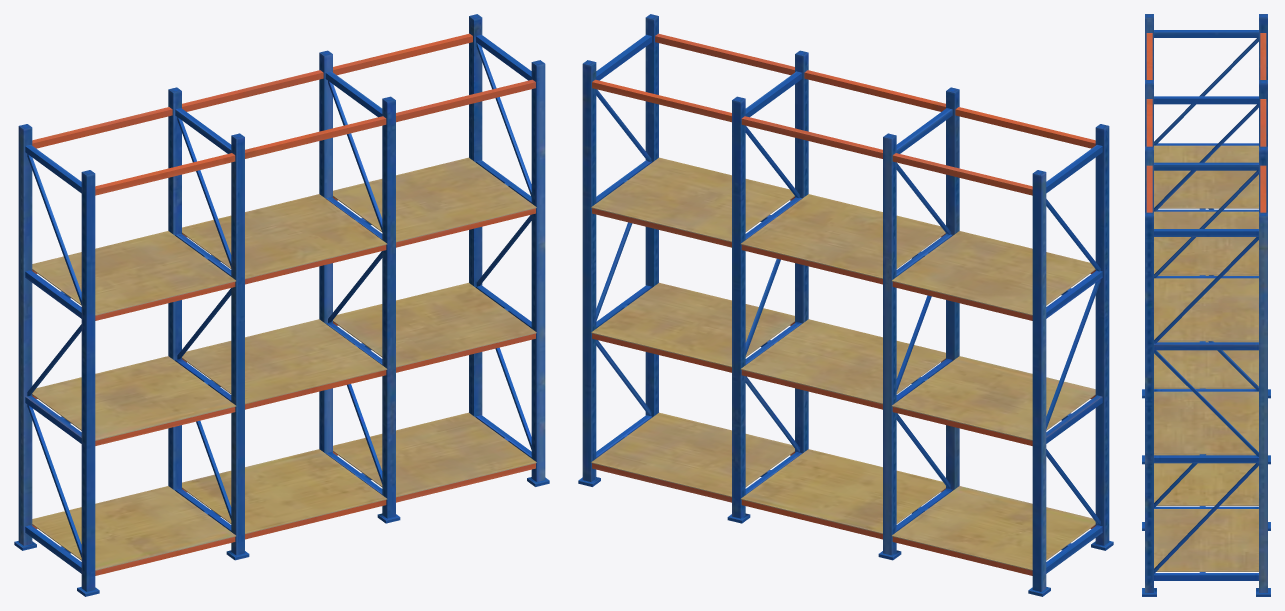
The model's file is pallet-rack.gltf.
3 renders of one model, left to right at view 1: azimuth 30°, elevation 25°; view 2: azimuth 150°, elevation 25°; view 3: azimuth 270°, elevation 25°, orthographic. The views are drawn at different scales.
Parts seen in each view (by area): view 1: Sketchfab_model; view 2: Sketchfab_model; view 3: Sketchfab_model.
Part boxes in pixels (left/top/right/bottom): Sketchfab_model: left=14, top=14, right=549, bottom=596; Sketchfab_model: left=578, top=14, right=1113, bottom=596; Sketchfab_model: left=1142, top=14, right=1270, bottom=596.
Bounding box in the file's own units: 3.59 × 3.1 × 0.9534.
1 material, 1 textured.
